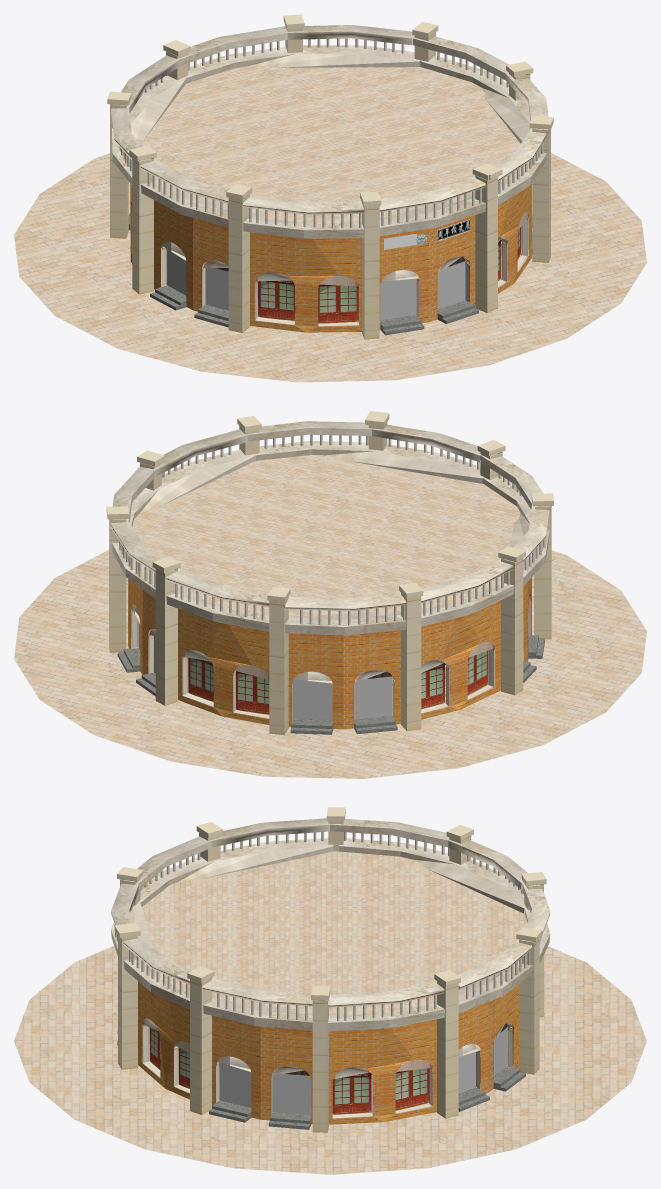
The model's file is 校史馆.fbx.
The picture shows the model from 3 angles, top to bottom: view 1: azimuth 30°, elevation 25°; view 2: azimuth 150°, elevation 25°; view 3: azimuth 270°, elevation 25°; orthographic projection.
Visible parts, largest first — view 1: pCylinder172, pCylinder171, polySurface95, pCube45 (×6), polySurface91, polySurface35 (×5), polySurface97, polySurface98, polySurface96; view 2: pCylinder172, pCylinder171, polySurface96, pCube45 (×6), polySurface35 (×5), polySurface97, polySurface91, polySurface98, polySurface95; view 3: pCylinder172, pCylinder171, polySurface98, polySurface35 (×5), pCube45 (×5), polySurface97, polySurface91, polySurface95, polySurface96.
Part boxes in pixels (bbox=[...]): pCylinder172: bbox=[14, 153, 646, 382]; pCylinder171: bbox=[140, 66, 520, 222]; polySurface95: bbox=[141, 180, 364, 332]; pCube45 (×6): bbox=[110, 104, 550, 339]; polySurface91: bbox=[379, 153, 547, 329]; polySurface35 (×5): bbox=[110, 25, 548, 214]; polySurface97: bbox=[184, 45, 420, 83]; polySurface98: bbox=[420, 55, 530, 249]; polySurface96: bbox=[112, 75, 185, 263]; pCylinder172: bbox=[14, 550, 646, 778]; pCylinder171: bbox=[132, 455, 520, 616]; polySurface96: bbox=[285, 581, 514, 729]; pCube45 (×6): bbox=[109, 506, 551, 734]; polySurface35 (×5): bbox=[110, 421, 549, 610]; polySurface97: bbox=[112, 543, 269, 724]; polySurface91: bbox=[255, 441, 484, 483]; polySurface98: bbox=[128, 449, 255, 648]; polySurface95: bbox=[483, 476, 549, 661]; pCylinder172: bbox=[14, 946, 646, 1174]; pCylinder171: bbox=[141, 851, 527, 1014]; polySurface98: bbox=[203, 998, 444, 1124]; polySurface35 (×5): bbox=[111, 818, 550, 1007]; pCube45 (×5): bbox=[118, 936, 539, 1132]; polySurface97: bbox=[458, 908, 550, 1097]; polySurface91: bbox=[111, 903, 189, 1099]; polySurface95: bbox=[138, 838, 333, 906]; polySurface96: bbox=[339, 838, 526, 913].
Bounding box in the file's own units: 4.91 × 1.2 × 4.91.
